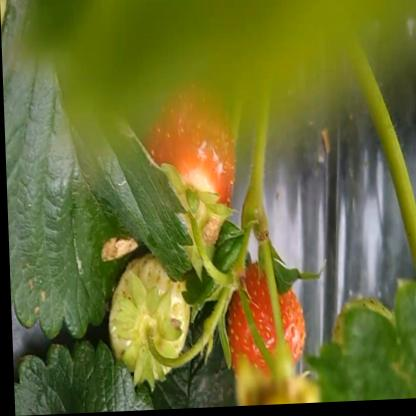ripe: (135, 70, 234, 219), (220, 255, 305, 381)
unripe: (98, 254, 193, 389)
